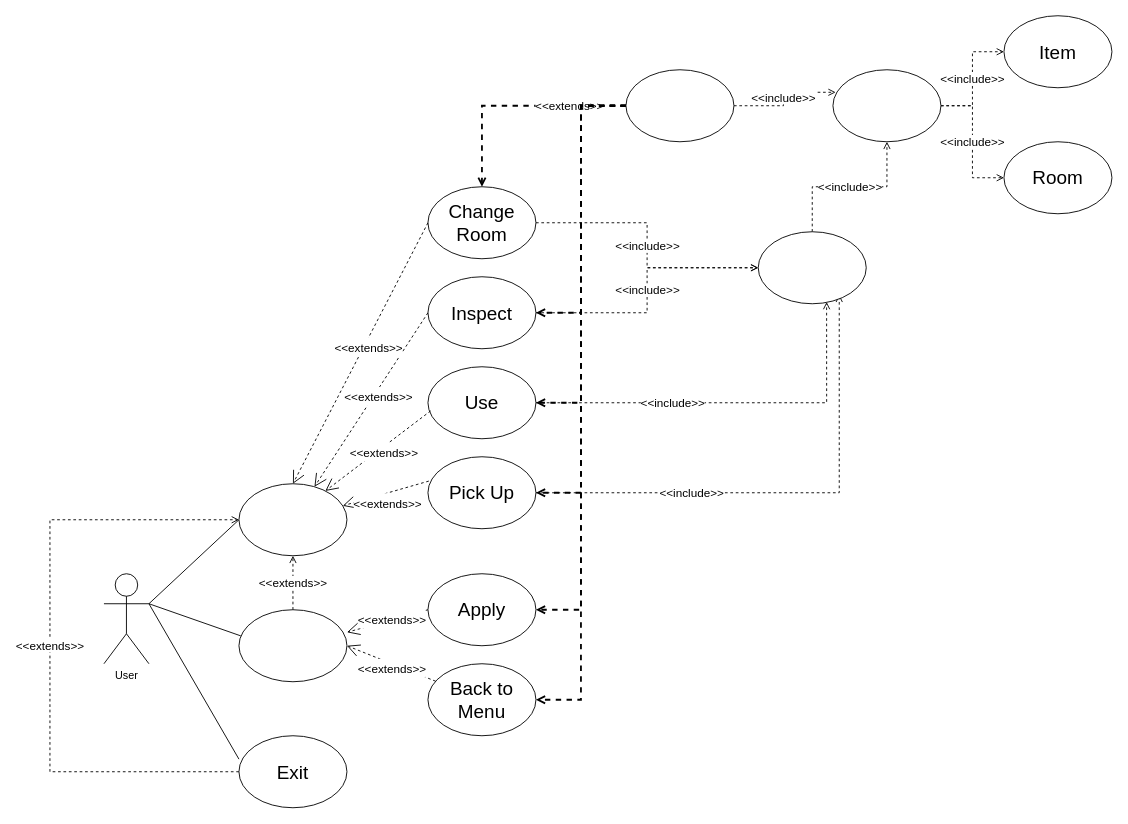
The diagram is 1128 pixels wide and 824 high, and some of its shapes have lost their labels. Each missing label, with the centre of its shape:
Game Controller: the point at 811,267
Model: the point at 886,105
Options: the point at 292,645
Start: the point at 292,519
View: the point at 679,105
